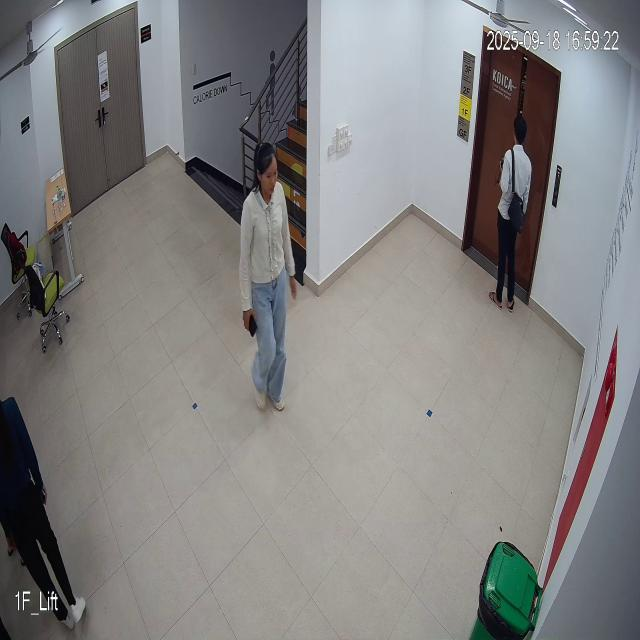face: (253, 142, 280, 198)
